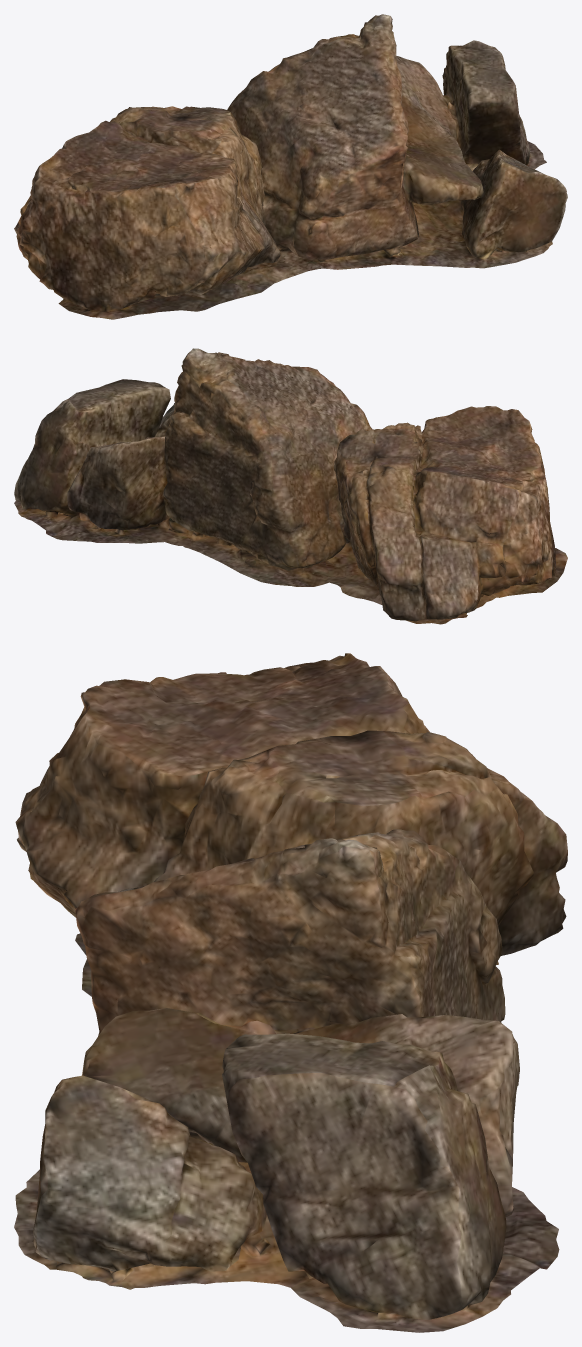
Rendered from namaqualand_boulder_02.glb.
3 views of the same model, one above another, from view 1: azimuth 30°, elevation 25°; view 2: azimuth 150°, elevation 25°; view 3: azimuth 270°, elevation 25° (orthographic). The views are drawn at different scales.
Visible parts, largest first — view 1: boulder_02; view 2: boulder_02; view 3: boulder_02.
Boxes of the visible parts, x1,y1,x2,y2 form: boulder_02: (14, 14, 567, 319); boulder_02: (14, 348, 567, 624); boulder_02: (14, 653, 567, 1332).
Bounding box in the file's own units: 2.53 × 0.8804 × 1.23.
Materials: 1 (1 with a texture image).
